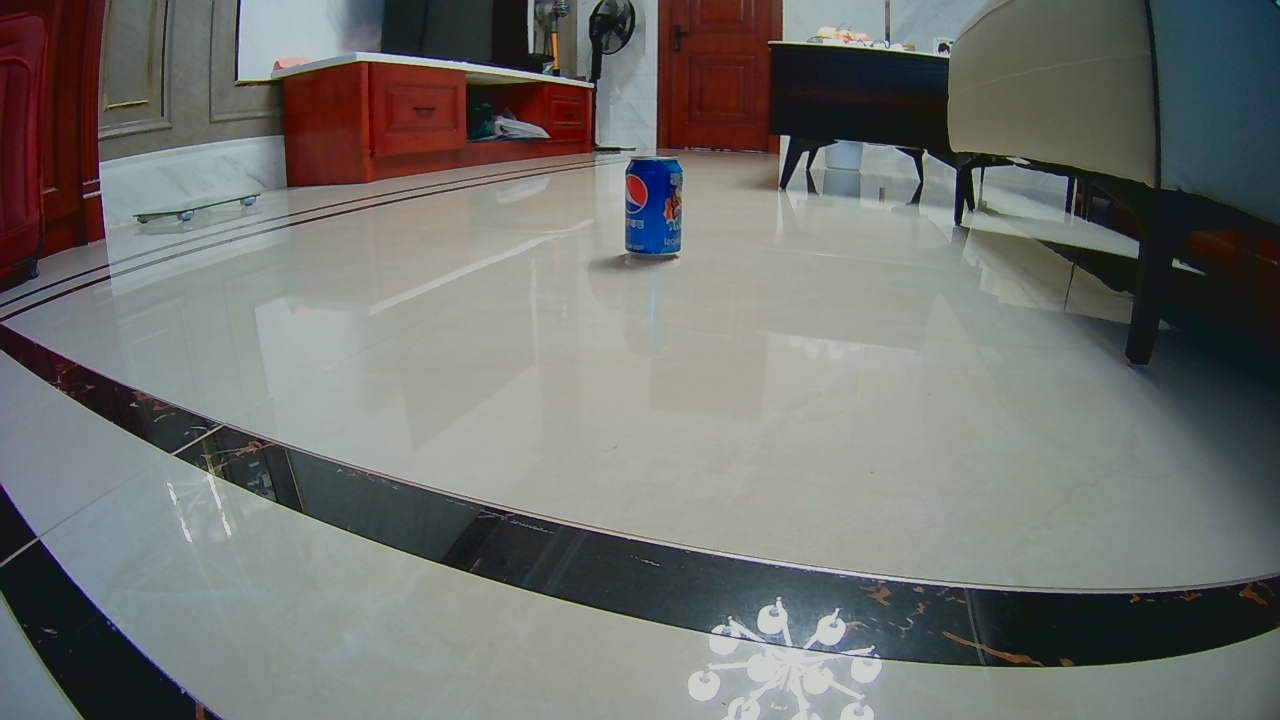pessi: (624, 161, 680, 263)
